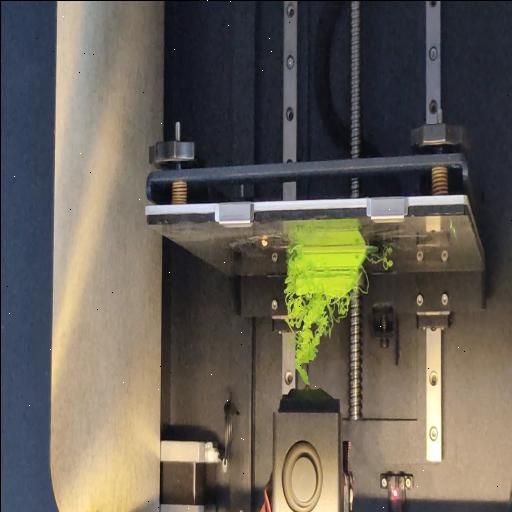spaghetti: (282, 294, 354, 390), (284, 246, 294, 298), (367, 258, 394, 272), (359, 266, 370, 294)
